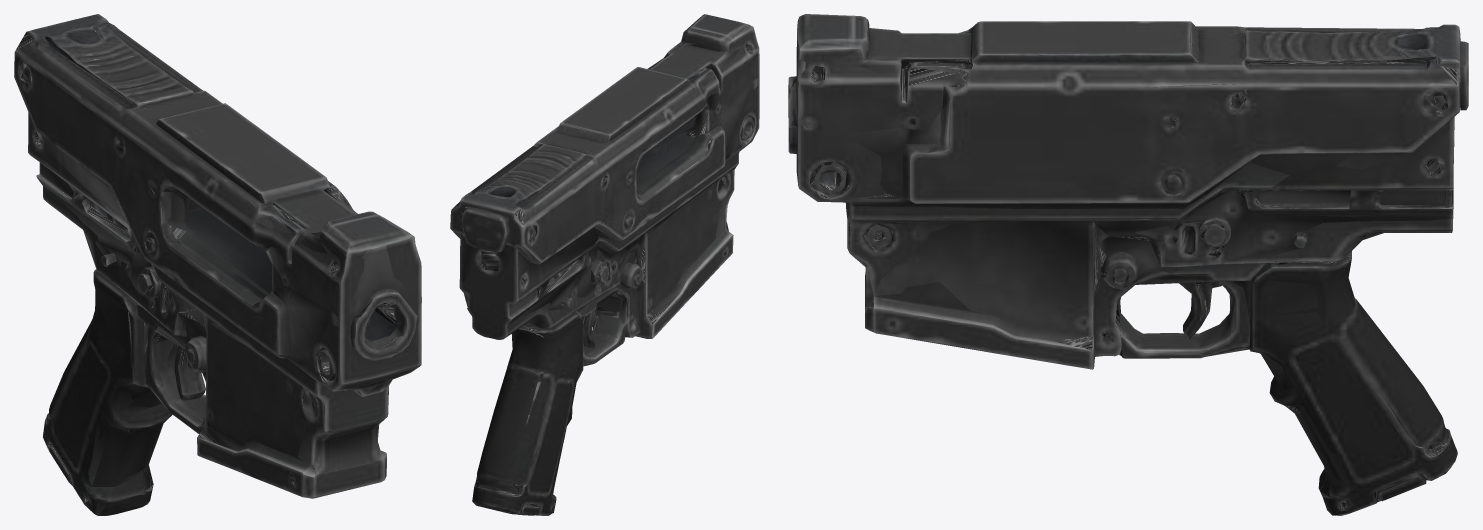
The model's file is rustworn.glb.
The picture shows the model from 3 angles, left to right: view 1: azimuth 30°, elevation 25°; view 2: azimuth 150°, elevation 25°; view 3: azimuth 270°, elevation 25°; orthographic projection. The views are drawn at different scales.
Parts seen in each view (by area): view 1: model, mesh_lod; view 2: model, mesh_lod; view 3: model, mesh_lod.
Boxes of the visible parts, x1,y1,x2,y2 form: model: [14, 14, 421, 515]; mesh_lod: [16, 22, 420, 515]; model: [450, 14, 759, 515]; mesh_lod: [453, 28, 757, 514]; model: [788, 14, 1468, 515]; mesh_lod: [789, 24, 1460, 515].
Bounding box in the file's own units: 0.0808 × 0.3412 × 0.44.
1 material, 1 textured.
